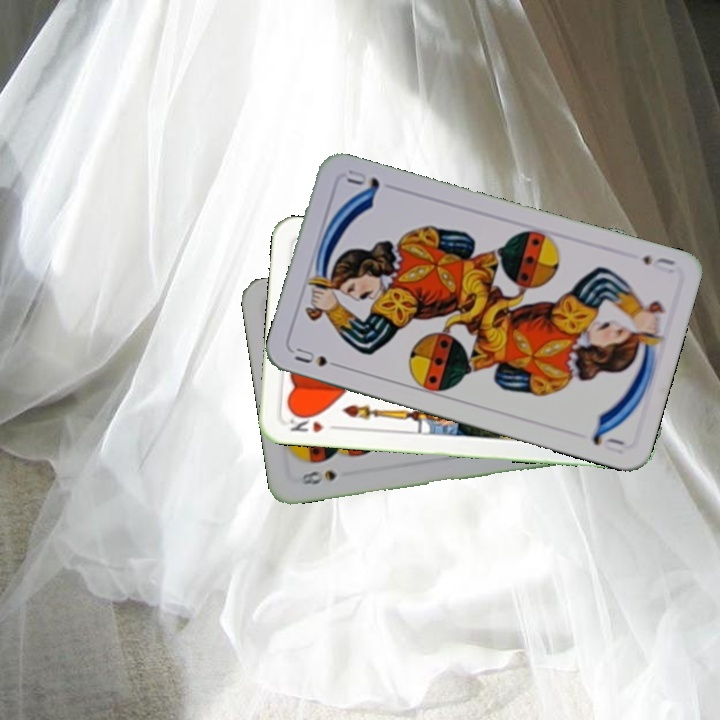HK: (284, 409, 342, 435)
S8: (293, 466, 339, 487)
SU: (291, 343, 347, 371), (638, 251, 679, 276)
